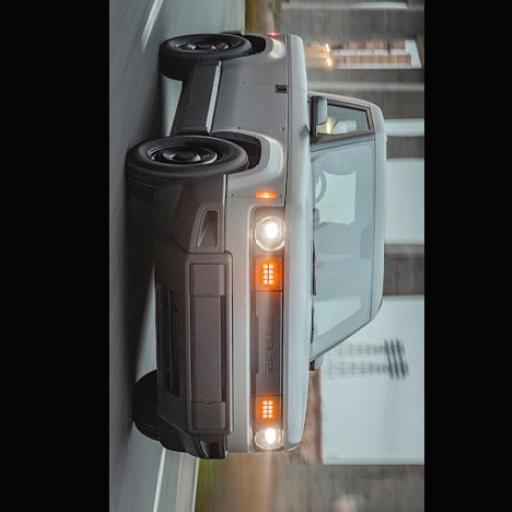truck: (126, 34, 385, 458)
